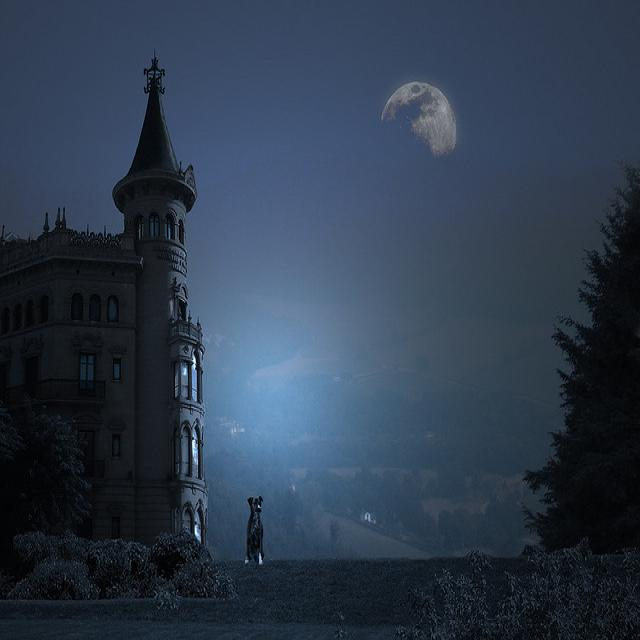Dog: (238, 479, 291, 570)
